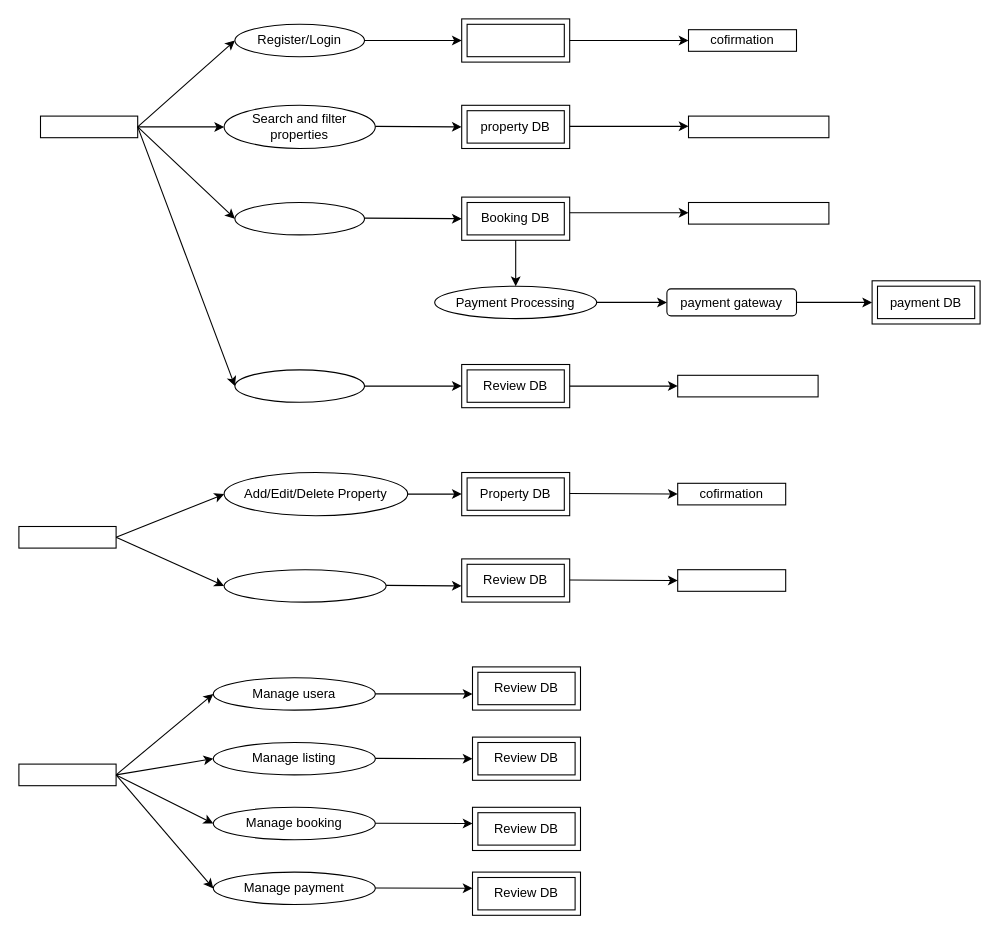
Some shapes in this 999 by 934 pixel diagram are drawn without their labels. The shapes that lost their labels are listed below. From the top down, each one's centre as x and y in pixels, then its label:
At [515,40]: "User DB".
At [88,126]: "Guest".
At [758,126]: "search result".
At [299,218]: "Book Property".
At [758,212]: "Booking cofirmation".
At [299,385]: "Leave Review".
At [747,385]: "Acknowledgement".
At [67,536]: "Host".
At [304,585]: "Respond to Review".
At [731,580]: "Updated Review".
At [67,774]: "Admin".
